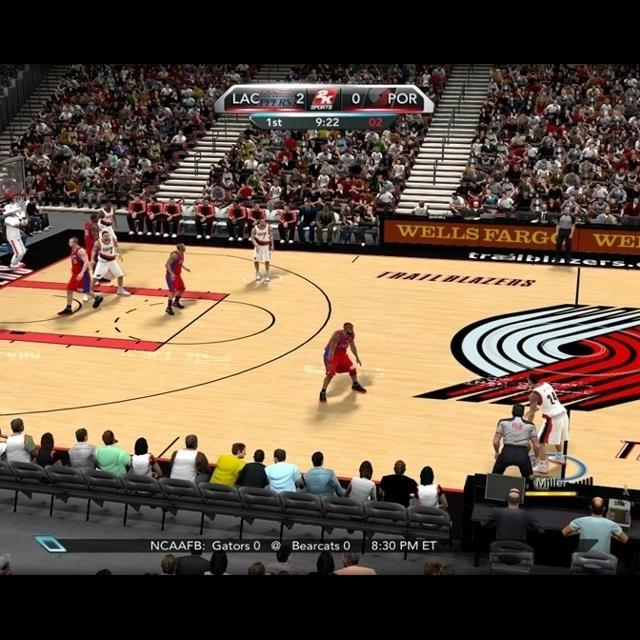hoop: (8, 189, 32, 216)
